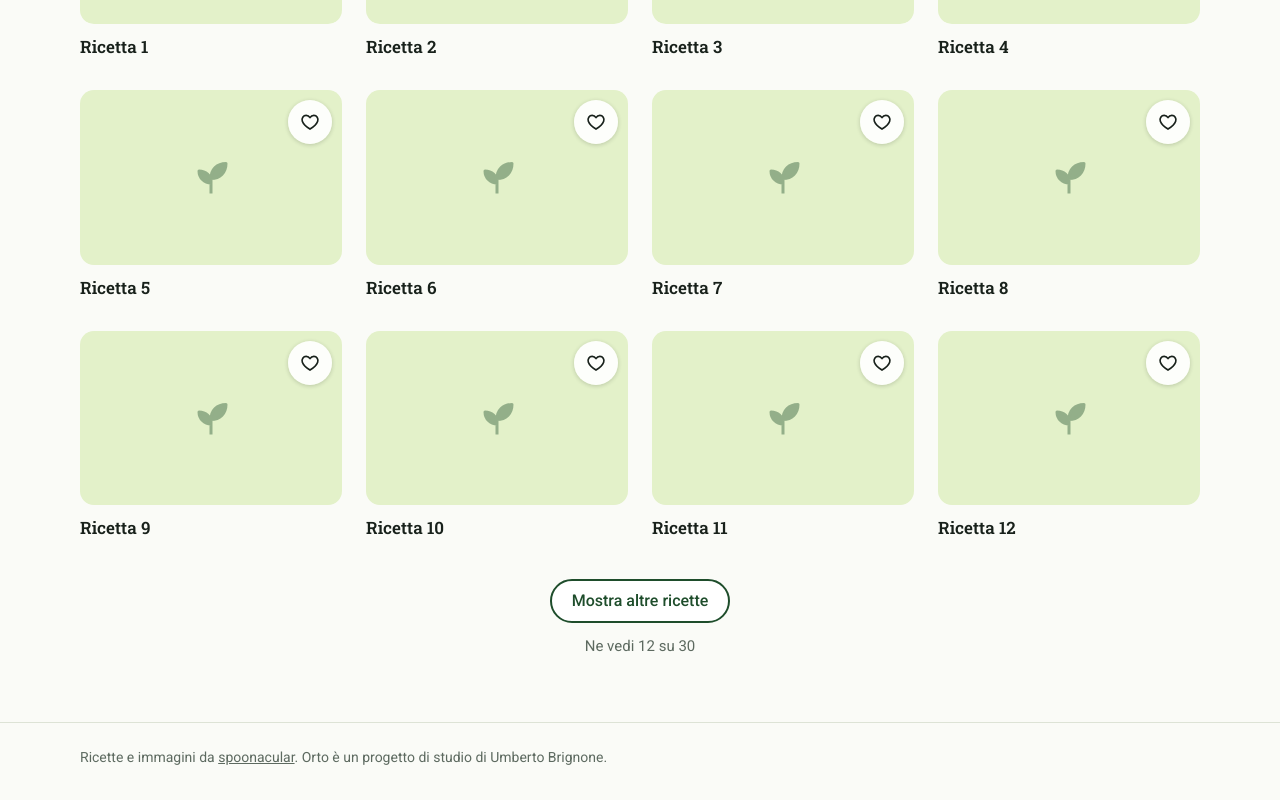
ricerca dalla home › Mostra altre ricette chiede la pagina successiva e la aggiunge
This screenshot has width=1280, height=800.
(page scrolled)
Click the button "Mostra altre ricette": (640, 601) [550,579,730,623]
(page scrolled)
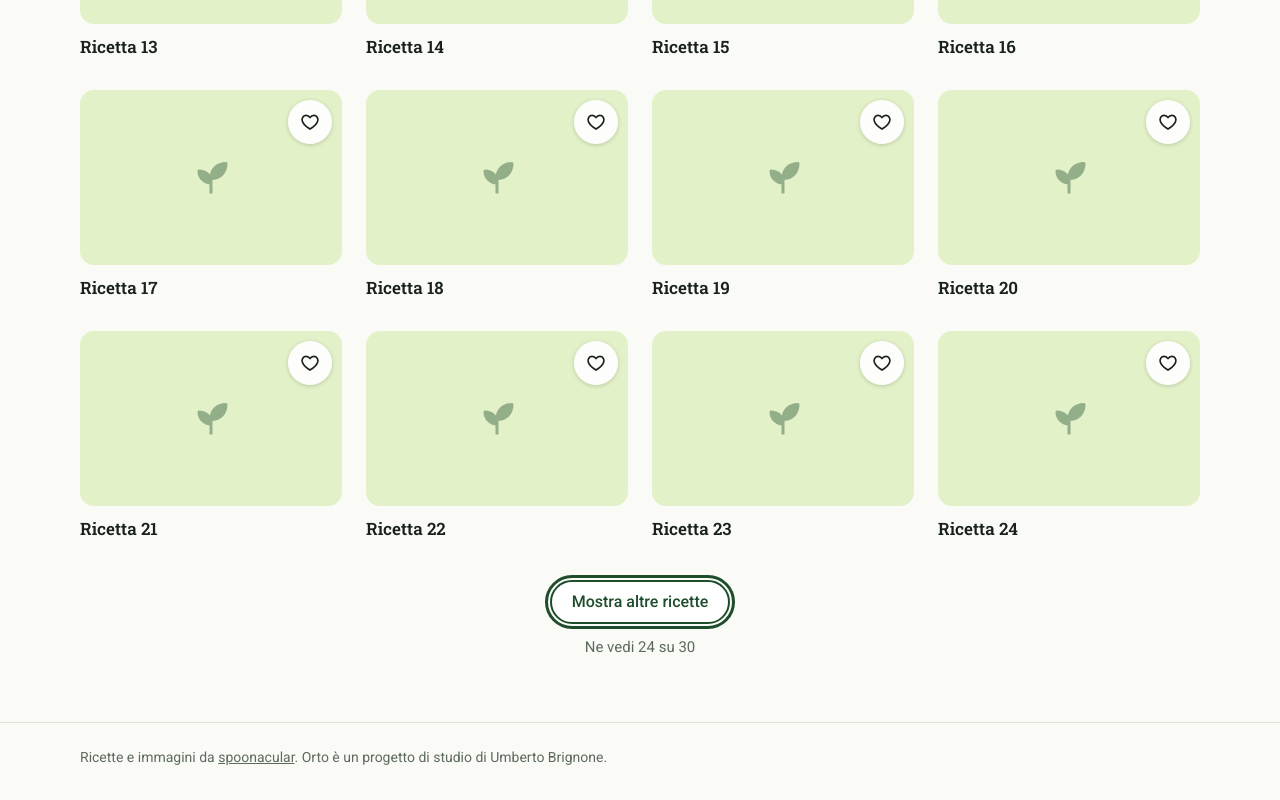
Expected: the text "Ne vedi 24 su 30" is shown, [585,636,695,658]
